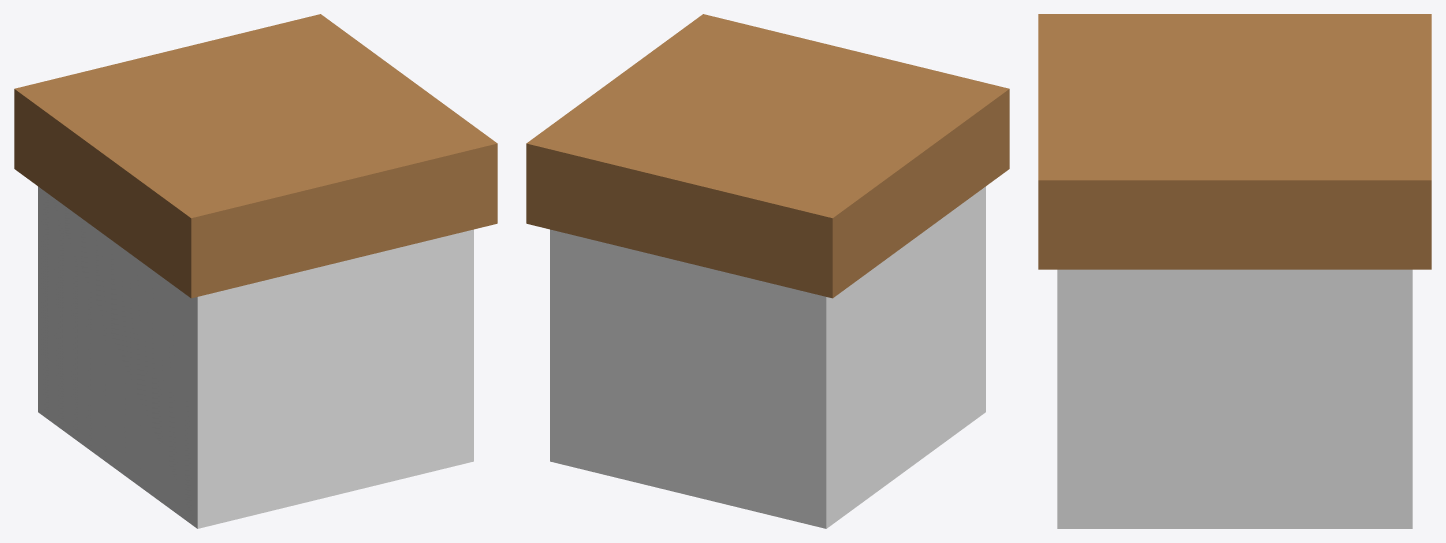
Rendered from DeskBlock_ver2.fbx.
The picture shows the model from 3 angles, left to right: view 1: azimuth 30°, elevation 25°; view 2: azimuth 150°, elevation 25°; view 3: azimuth 270°, elevation 25°; orthographic projection. The views are drawn at different scales.
Visible parts, largest first — view 1: Desk_Block.ver2; view 2: Desk_Block.ver2; view 3: Desk_Block.ver2.
Boxes of the visible parts, bbox=[...] form: Desk_Block.ver2: bbox=[14, 14, 497, 528]; Desk_Block.ver2: bbox=[526, 14, 1009, 528]; Desk_Block.ver2: bbox=[1038, 14, 1431, 528].
Bounding box in the file's own units: 5 × 5 × 5.
